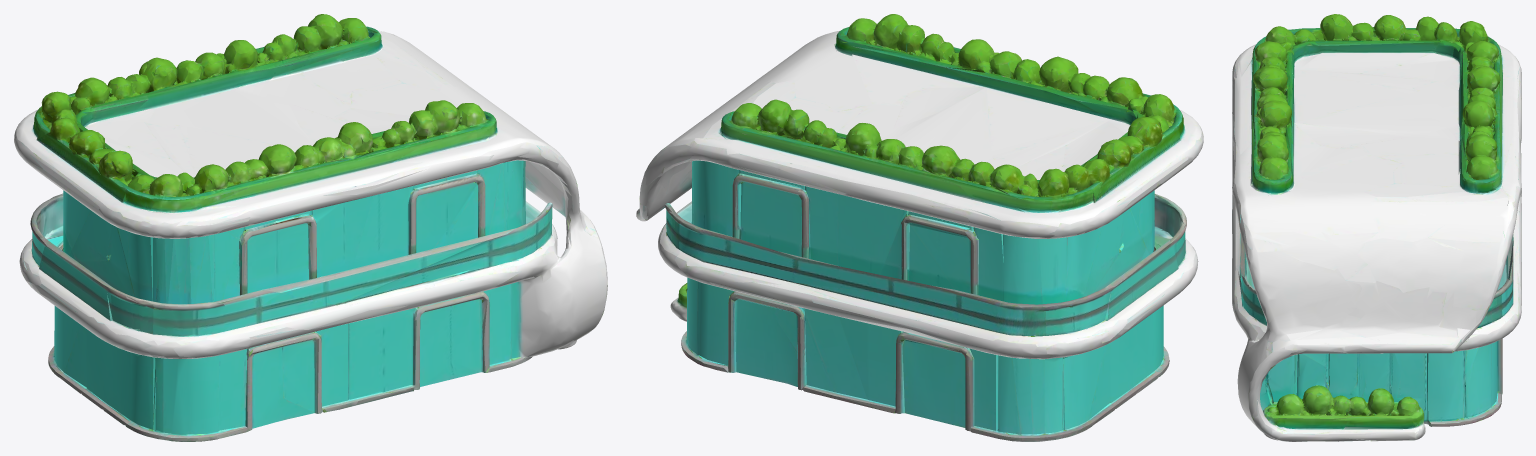
Rendered from mall.glb.
3 views of the same model, side by side, from view 1: azimuth 30°, elevation 25°; view 2: azimuth 150°, elevation 25°; view 3: azimuth 270°, elevation 25° (orthographic). The views are drawn at different scales.
Bounding box in the file's own units: 1.9 × 1.05 × 1.12.
1 material, 1 textured.
